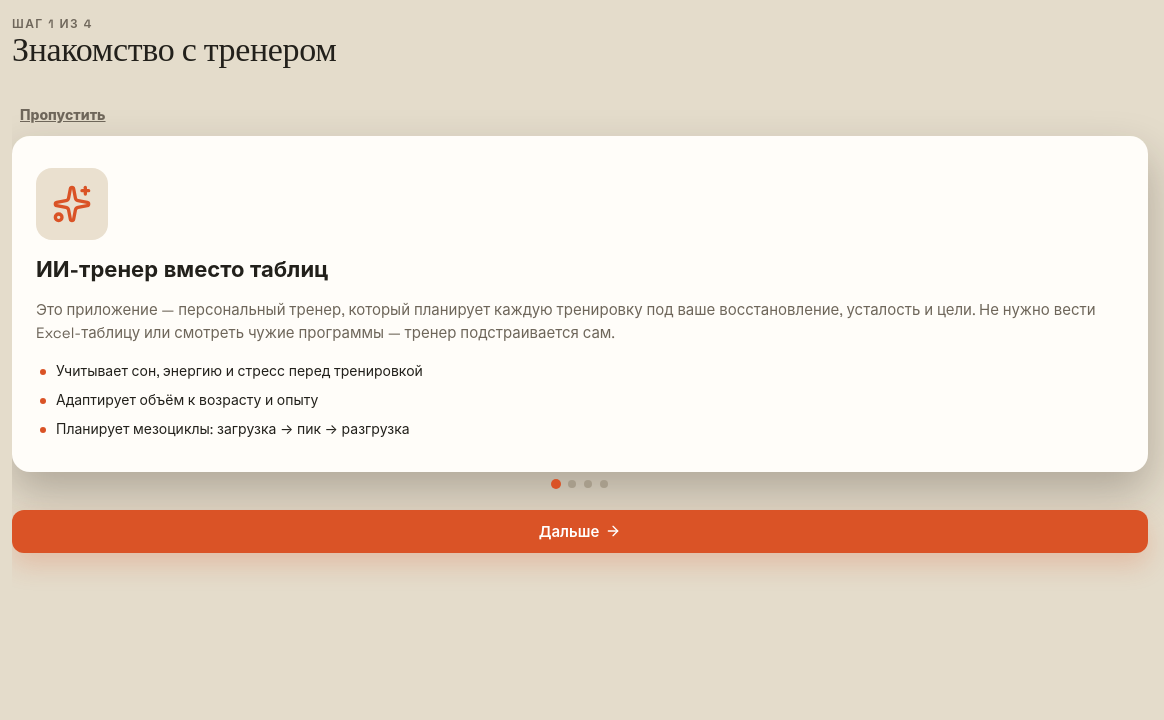
OnboardingScreen › renders "Начать тренироваться" on the last slide
Click the button "Дальше".
click(580, 531)  # box [12, 510, 1148, 553]
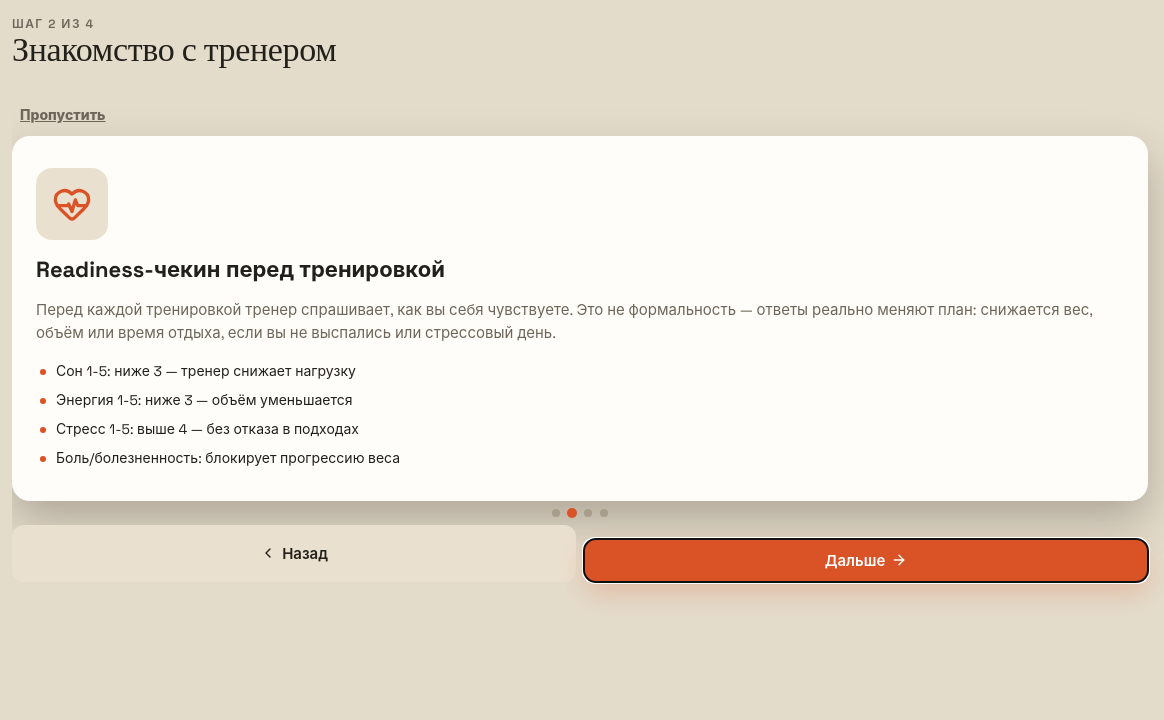
Click the button "Дальше".
click(866, 560)  # box [584, 539, 1148, 582]
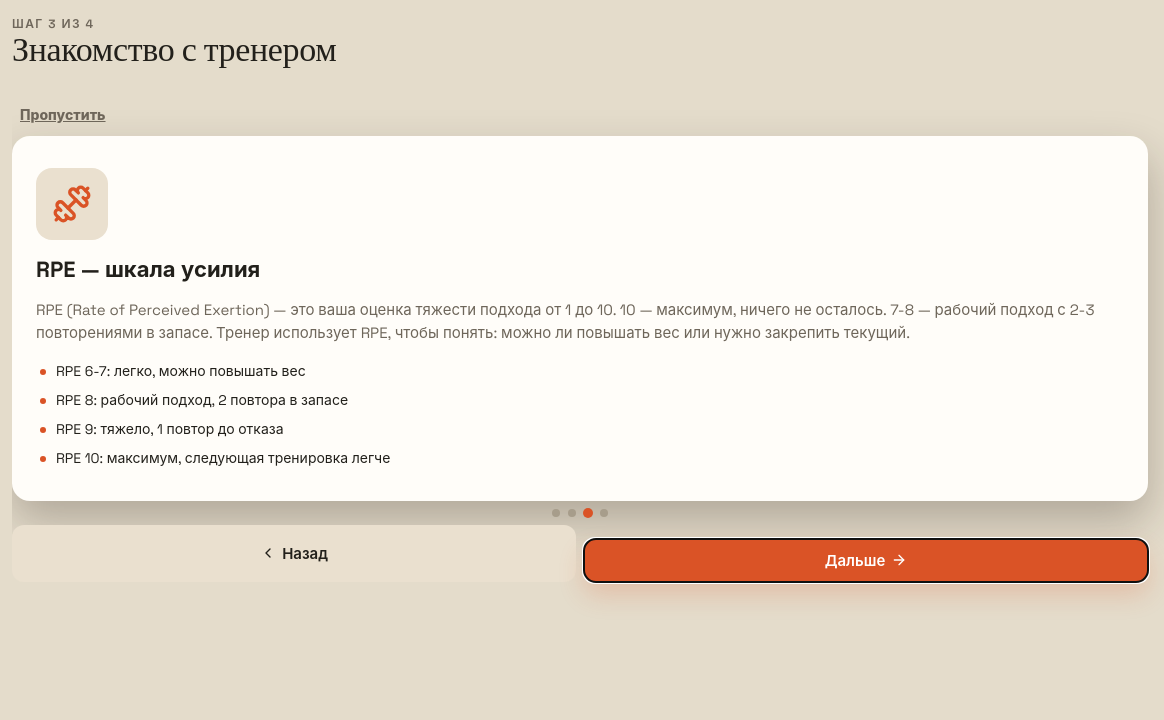
Click the button "Дальше".
click(866, 560)  # box [584, 539, 1148, 582]
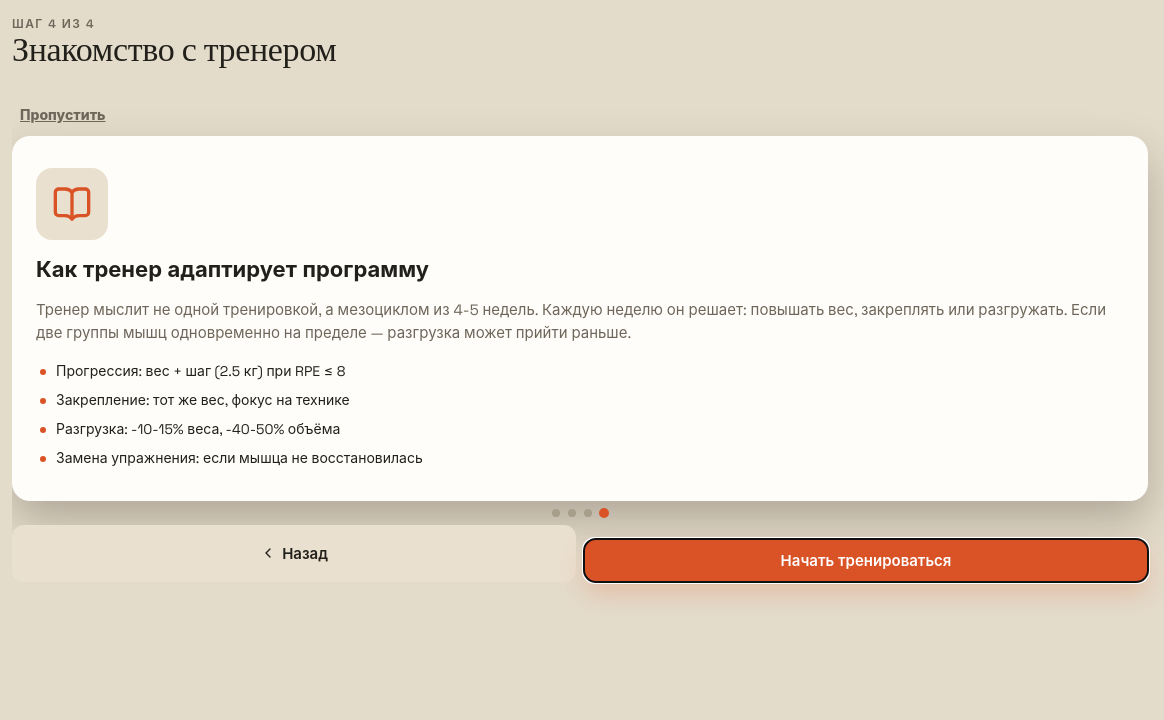
Now the text "Шаг 4 из 4" is shown, box [12, 16, 95, 32]
Now the button "Начать тренироваться" is shown, box [584, 539, 1148, 582]
